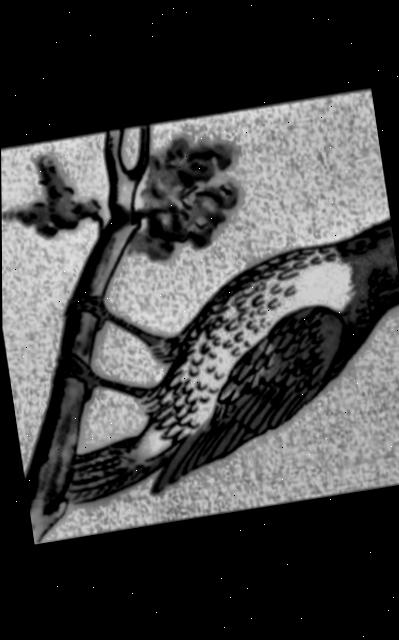El Pajaro: (1, 89, 399, 545)
